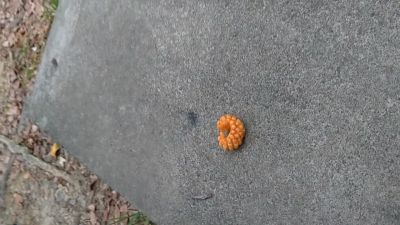eggs: (214, 114, 247, 153)
